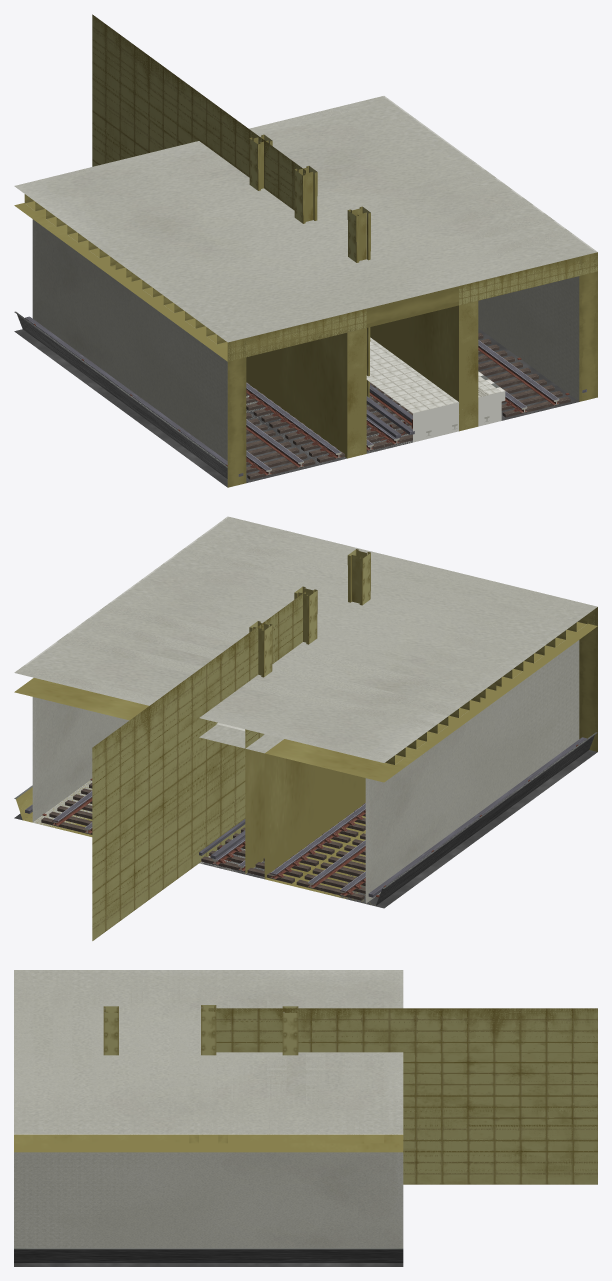
File: GenericStationMostlyTexturedFINAL.fbx
The picture shows the model from 3 angles, top to bottom: view 1: azimuth 30°, elevation 25°; view 2: azimuth 150°, elevation 25°; view 3: azimuth 270°, elevation 25°; orthographic projection. The views are drawn at different scales.
Visible parts, largest first — view 1: TopFlat20x20, TunnelCentered20x20, DoubleTunnel20x20, WallLeft20x10, WallRight20x10, TopRibbed20x20, DoubleRail20x20, Platform20x5, FlatFloor, CenteredRails20x20, Bottom20x20, Column20x20 (+2 smaller); view 2: TopFlat20x20, TunnelCentered20x20, TopRibbed20x20, WallRight20x10, WallLeft20x10, DoubleTunnel20x20, DoubleRail20x20, CenteredRails20x20, Bottom20x20, FlatFloor, Column20x20, SingleColumn (+1 smaller); view 3: TopFlat20x20, WallRight20x10, TunnelCentered20x20, TopRibbed20x20, WallLeft20x10, DoubleTunnel20x20, Bottom20x20, Column20x20, FlatFloor, SingleColumn.
Boxes of the visible parts, box(x1,y1,x2,y2) form: TopFlat20x20: box(14, 96, 597, 342); TunnelCentered20x20: box(32, 219, 597, 487); DoubleTunnel20x20: box(14, 203, 597, 467); WallLeft20x10: box(92, 16, 304, 210); WallRight20x10: box(92, 14, 305, 209); TopRibbed20x20: box(17, 96, 596, 344); DoubleRail20x20: box(25, 316, 586, 479); Platform20x5: box(366, 337, 505, 442); FlatFloor: box(14, 328, 578, 487); CenteredRails20x20: box(246, 382, 489, 462); Bottom20x20: box(14, 311, 266, 480); Column20x20: box(249, 134, 370, 405); TopFlat20x20: box(14, 516, 597, 762); TunnelCentered20x20: box(32, 607, 597, 903); TopRibbed20x20: box(15, 517, 596, 764); WallRight20x10: box(92, 591, 305, 940); WallLeft20x10: box(92, 593, 305, 940); DoubleTunnel20x20: box(14, 609, 597, 905); DoubleRail20x20: box(25, 737, 586, 900); CenteredRails20x20: box(210, 803, 365, 883); Bottom20x20: box(201, 732, 596, 905); FlatFloor: box(14, 750, 597, 908); Column20x20: box(249, 549, 370, 677); SingleColumn: box(294, 586, 317, 644); TopFlat20x20: box(14, 970, 403, 1134); WallRight20x10: box(208, 1008, 597, 1184); TunnelCentered20x20: box(14, 1152, 403, 1248); TopRibbed20x20: box(14, 970, 403, 1143); WallLeft20x10: box(209, 1008, 597, 1184); DoubleTunnel20x20: box(14, 1134, 403, 1249); Bottom20x20: box(14, 1249, 403, 1262); Column20x20: box(103, 1006, 298, 1055); FlatFloor: box(14, 1263, 403, 1266); SingleColumn: box(201, 1005, 216, 1055).
Size of the model in its own units: 2000 by 1009 by 3000.
